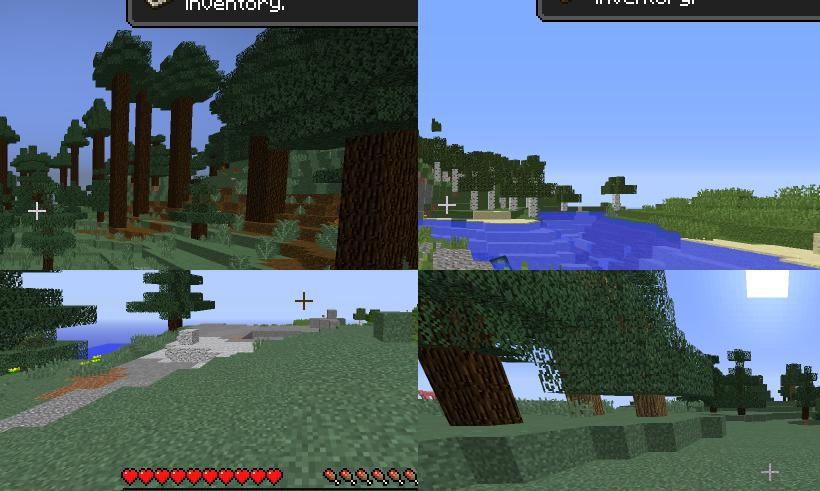minecraft-blocks: (333, 126, 418, 270), (419, 351, 523, 425), (244, 148, 290, 222), (168, 102, 195, 213), (109, 85, 126, 232), (410, 117, 418, 270), (569, 393, 604, 418), (635, 396, 669, 419), (1, 141, 10, 189), (530, 198, 539, 219), (170, 321, 183, 333), (489, 192, 496, 212), (472, 192, 479, 212), (453, 170, 459, 193), (613, 195, 621, 211), (436, 163, 441, 187), (511, 198, 519, 212), (802, 408, 810, 421), (500, 198, 507, 210), (443, 172, 449, 183), (711, 408, 719, 415), (738, 409, 746, 416), (563, 204, 569, 212), (791, 387, 797, 395)
